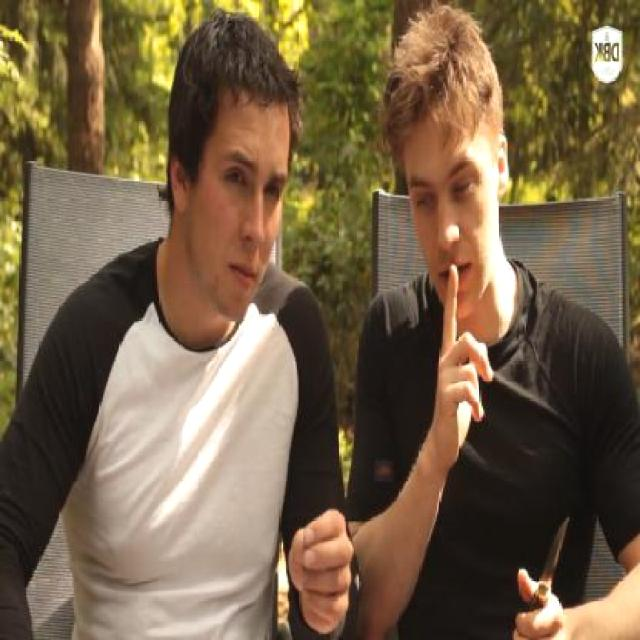knife: (507, 501, 579, 640)
